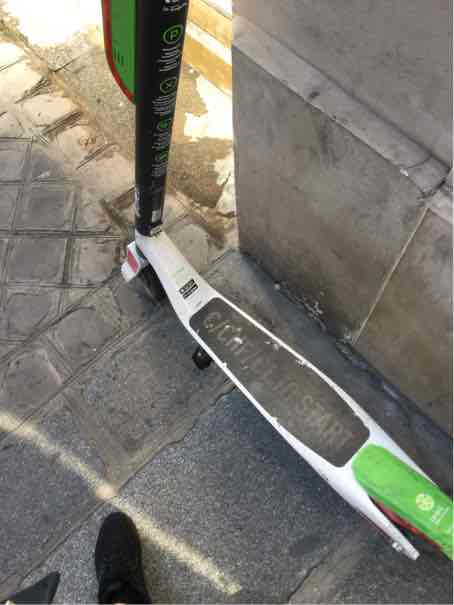scooter: (6, 11, 443, 605)
